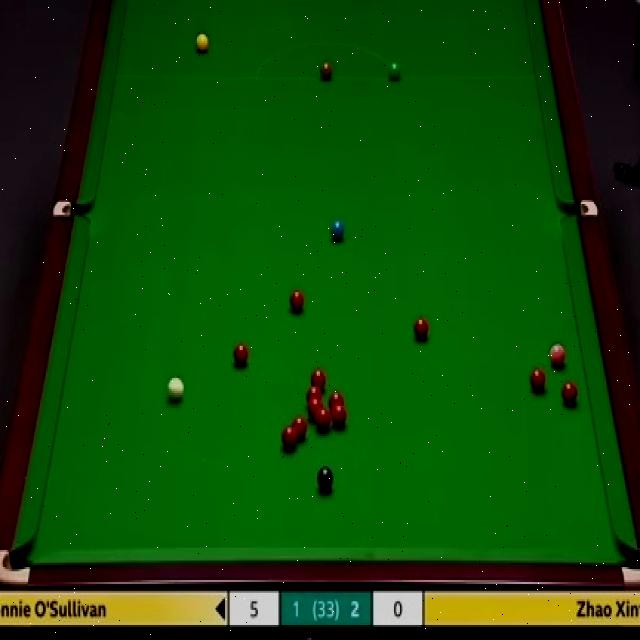black-ball: (316, 466, 334, 489)
blue-ball: (329, 219, 346, 243)
brown-ball: (319, 61, 332, 81)
green-ball: (388, 62, 402, 82)
pink-ball: (548, 343, 568, 368)
red-ball: (560, 380, 578, 405), (530, 365, 546, 393), (282, 424, 298, 451), (289, 288, 305, 314), (412, 316, 429, 339), (332, 402, 347, 428), (292, 415, 307, 441), (232, 341, 248, 365), (316, 407, 331, 431), (310, 368, 326, 390), (308, 398, 322, 420), (305, 386, 322, 404), (328, 390, 346, 407)
white-ball: (168, 375, 185, 406)
yellow-ball: (195, 33, 208, 56)
